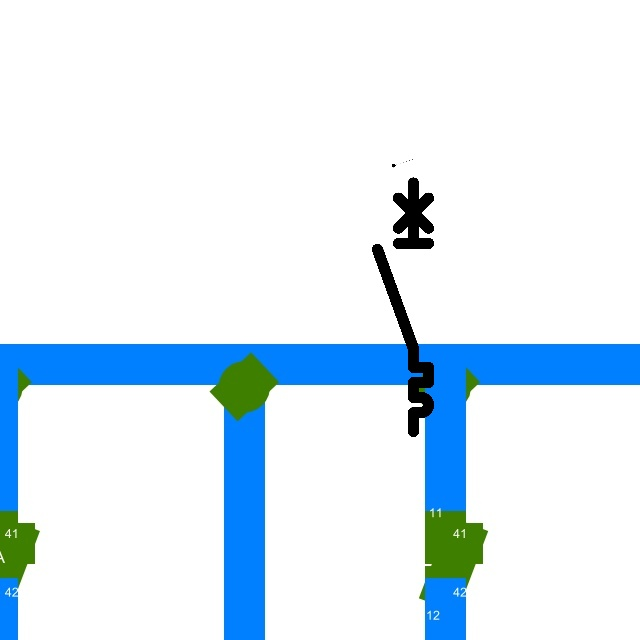interruptor_termomagnetico: (371, 176, 435, 438)
